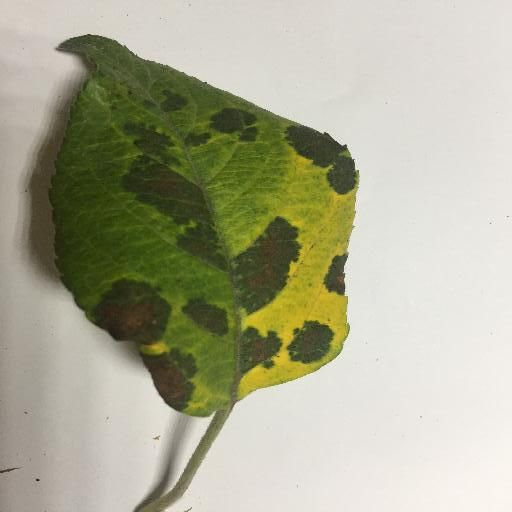Brown_Spot: (129, 157, 203, 230), (83, 280, 163, 342), (280, 132, 347, 191), (172, 299, 227, 346), (243, 228, 276, 299), (152, 357, 193, 403), (294, 328, 323, 359), (238, 334, 273, 359)
